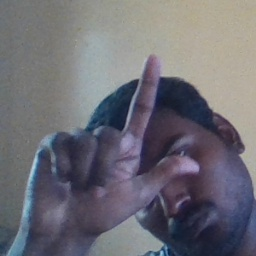L: (19, 52, 203, 239)
